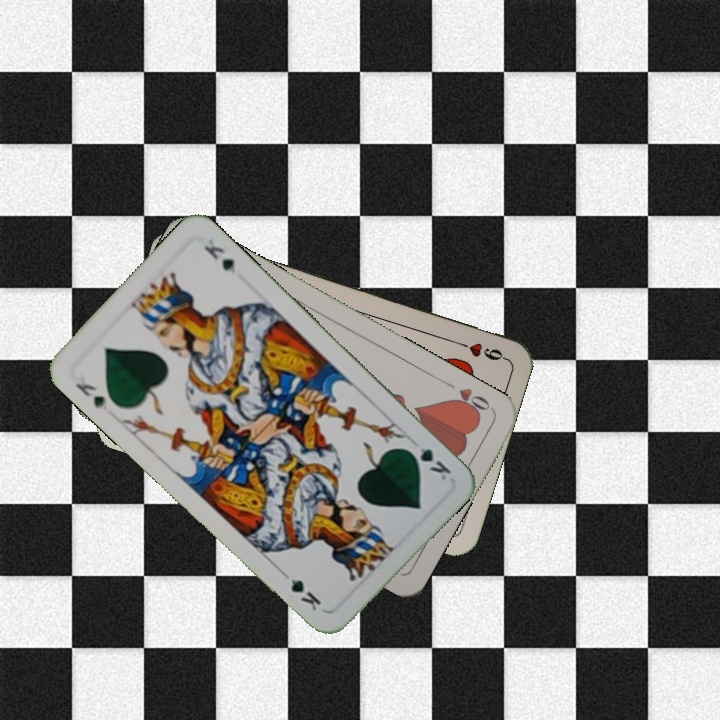GK: (402, 443, 454, 483), (71, 378, 110, 414)
H9: (451, 336, 508, 363)
HO: (441, 377, 495, 419)
